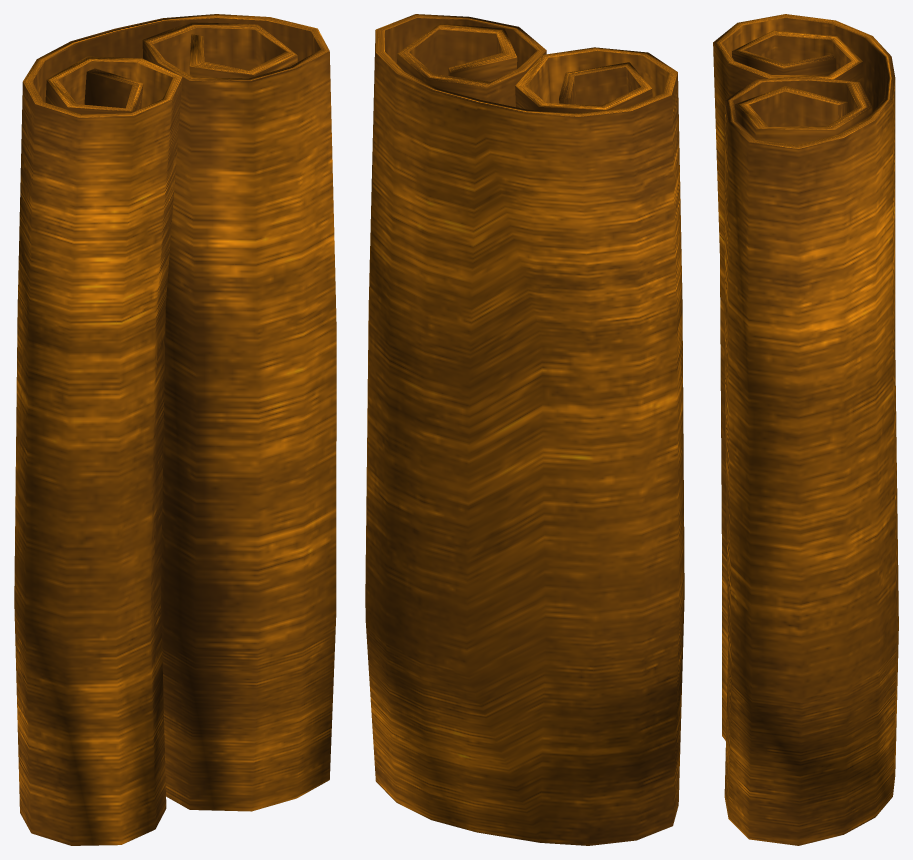
The model's file is Cinnamon2.fbx.
The picture shows the model from 3 angles, left to right: view 1: azimuth 30°, elevation 25°; view 2: azimuth 150°, elevation 25°; view 3: azimuth 270°, elevation 25°; orthographic projection. The views are drawn at different scales.
Parts seen in each view (by area): view 1: Cinnamon; view 2: Cinnamon; view 3: Cinnamon.
Boxes of the visible parts, x1=… form: Cinnamon: x1=14, y1=14, x2=336, y2=845; Cinnamon: x1=365, y1=14, x2=684, y2=845; Cinnamon: x1=713, y1=14, x2=898, y2=845.
Size of the model in its own units: 84.68 by 193 by 46.59.
Materials: 1 (1 with a texture image).
